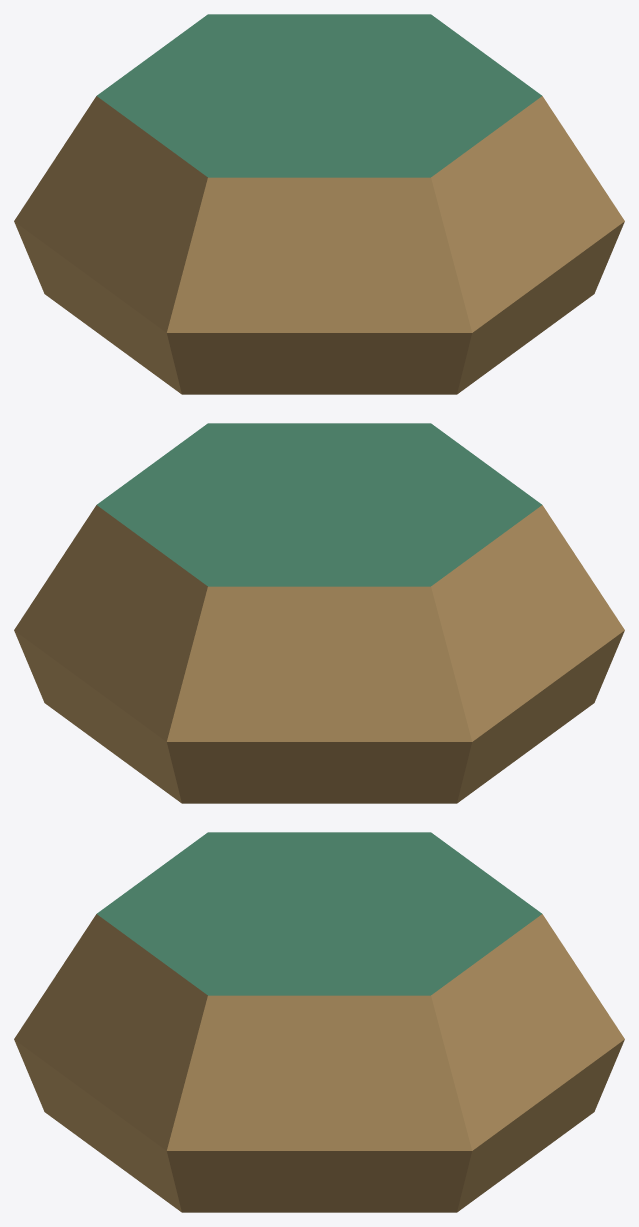
Rendered from naturePack_016.obj.
The picture shows the model from 3 angles, top to bottom: view 1: azimuth 30°, elevation 25°; view 2: azimuth 150°, elevation 25°; view 3: azimuth 270°, elevation 25°; orthographic projection.
Visible parts, largest first — view 1: Mesh1_Group1_Model.009; view 2: Mesh1_Group1_Model.009; view 3: Mesh1_Group1_Model.009.
Part boxes in pixels (<box>): Mesh1_Group1_Model.009: <box>14,14,624,394</box>; Mesh1_Group1_Model.009: <box>14,423,624,803</box>; Mesh1_Group1_Model.009: <box>14,832,624,1212</box>.
Bounding box in the file's own units: 1.65 × 0.68 × 1.9.
